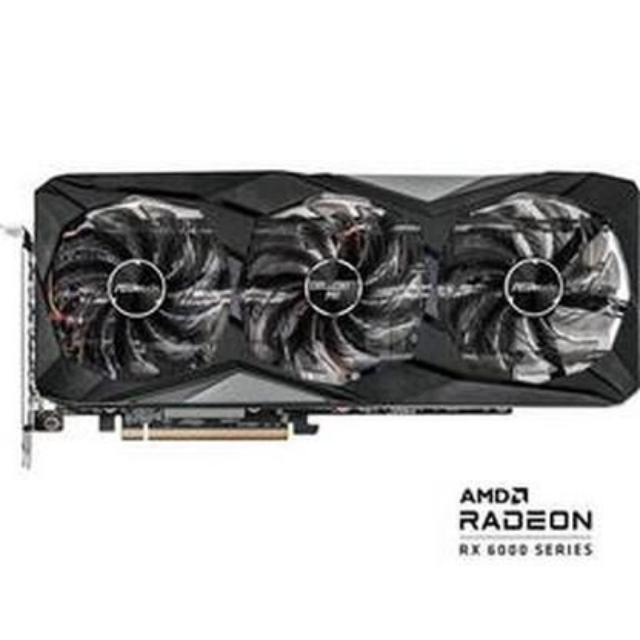GPU: (9, 167, 640, 442)
